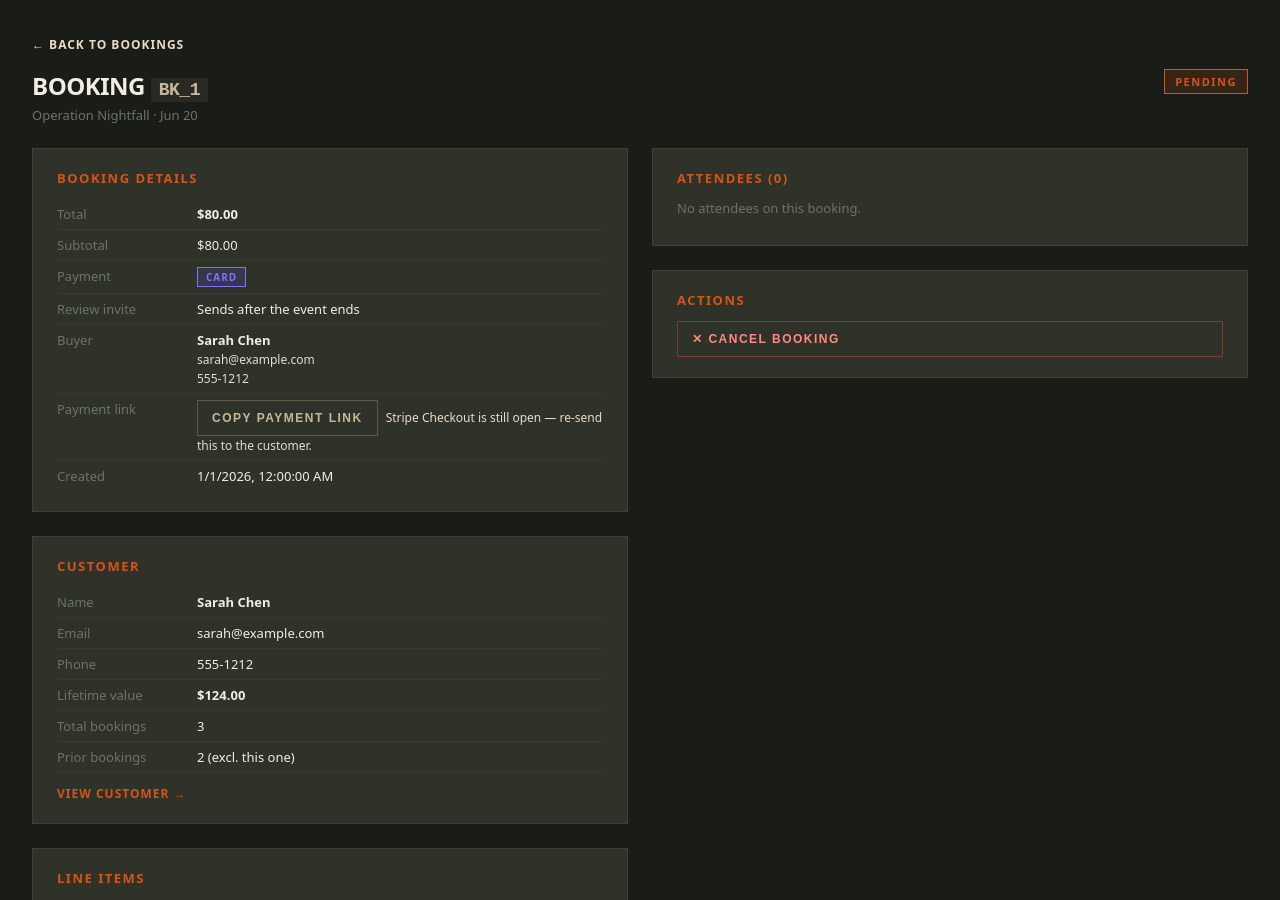
Test case: AdminBookingsDetail › shows Cancel booking + Copy payment link for a pending card booking (C8)
Check: the text "bk_1" is shown, box [151,78,208,102]
Check: the button "Copy payment link" is shown, box [197,400,378,436]
# Confirm modal opens (fireEvent per the A1 fixed-overlay lesson).
Click the button "✕ Cancel booking" at (766, 339), box [677,321,1223,357]
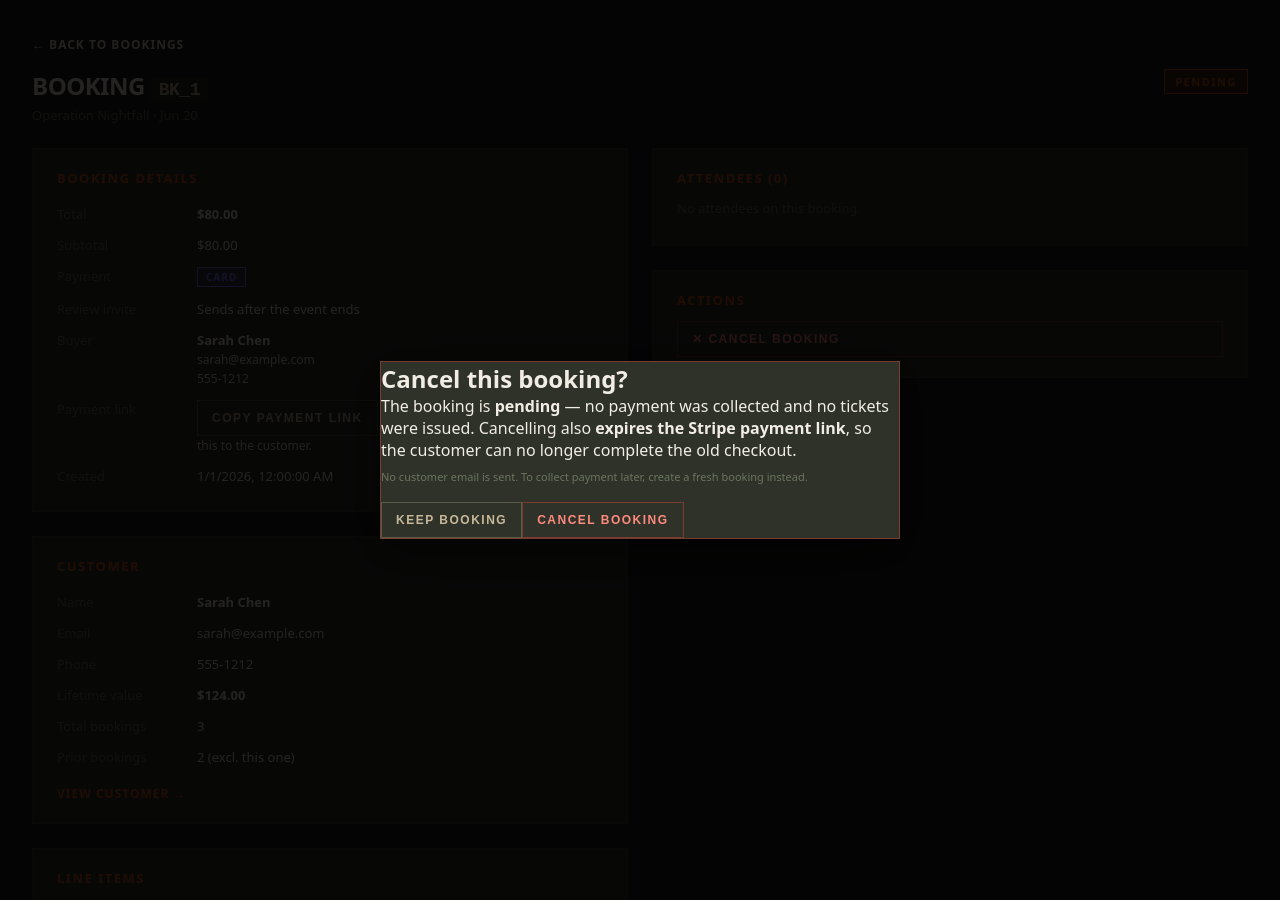
Check: the heading "Cancel this booking?" is shown, box [381,362,628,395]
Check: the text "expires the Stripe payment link" is shown, box [595,417,846,439]
